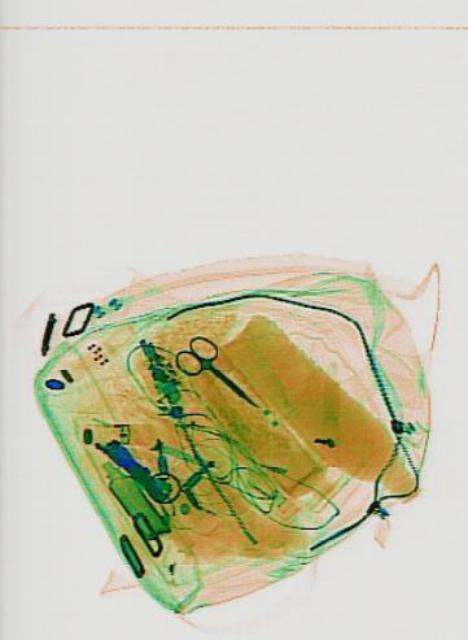Scissors: (168, 322, 266, 426)
